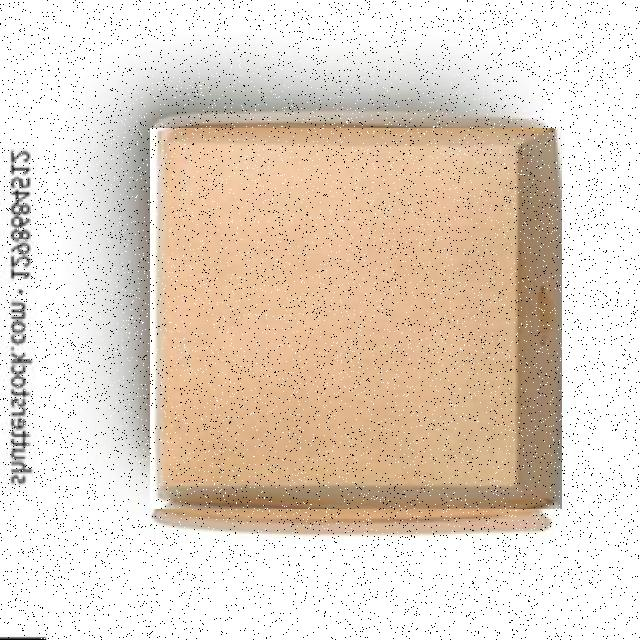normal: (150, 128, 562, 509)
